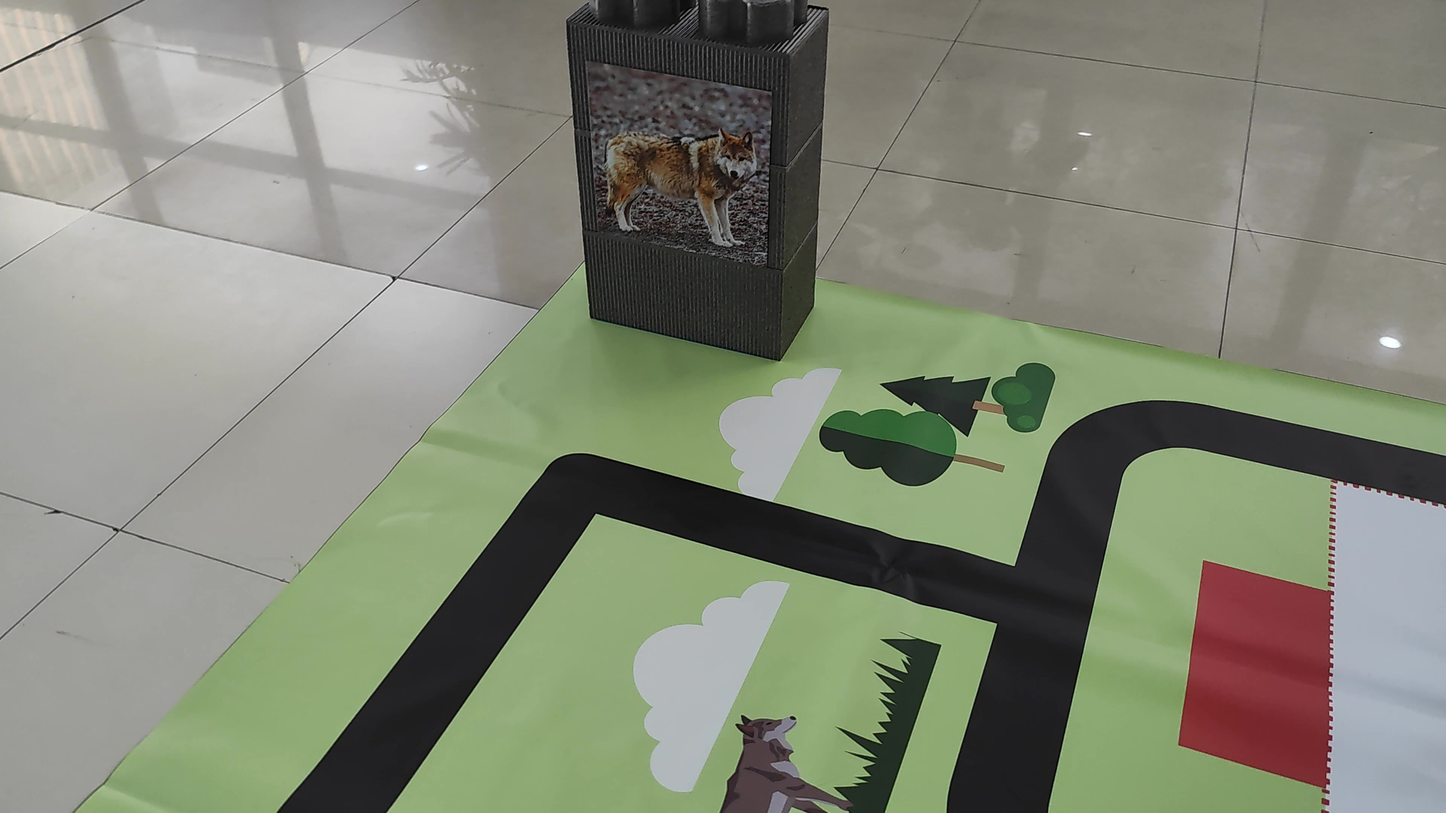wolf: (588, 64, 773, 269)
